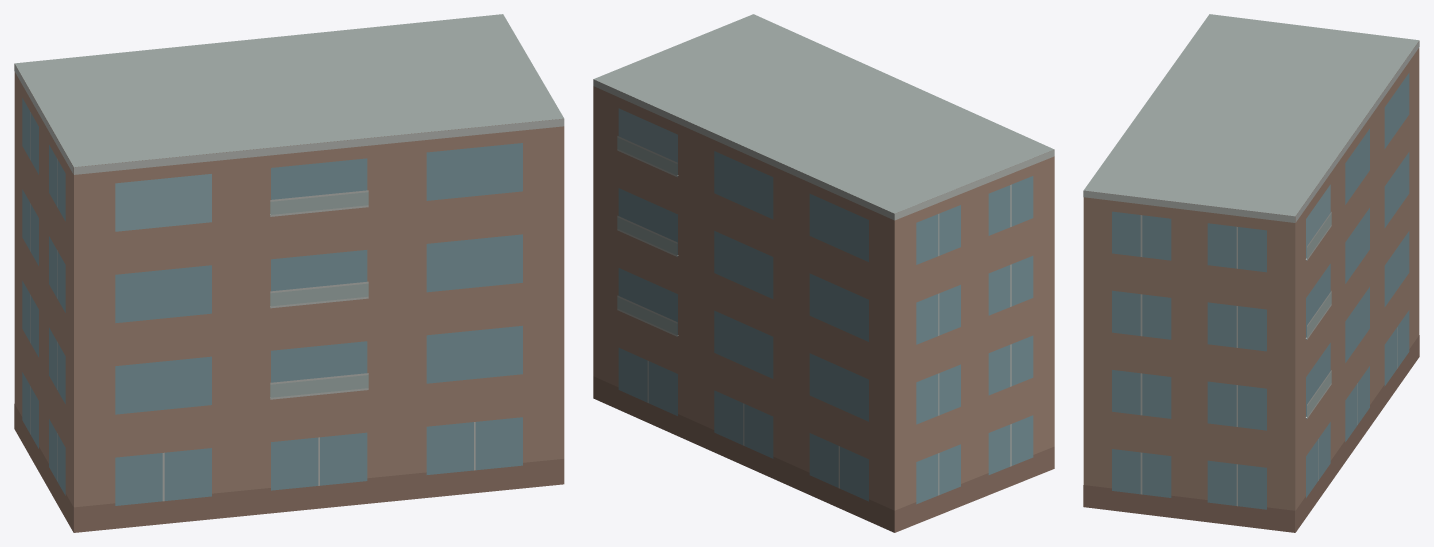
File: survey-upis-32947117.glb
The picture shows the model from 3 angles, left to right: view 1: azimuth 30°, elevation 25°; view 2: azimuth 150°, elevation 25°; view 3: azimuth 270°, elevation 25°; orthographic projection. The views are drawn at different scales.
Visible parts, largest first — view 1: survey-upis-32947117.tmp; view 2: survey-upis-32947117.tmp; view 3: survey-upis-32947117.tmp.
Boxes of the visible parts, <box> form: survey-upis-32947117.tmp: <box>14,14,564,532</box>; survey-upis-32947117.tmp: <box>593,14,1054,532</box>; survey-upis-32947117.tmp: <box>1083,14,1419,532</box>.
Size of the model in its own units: 15.78 by 11.5 by 11.07.
